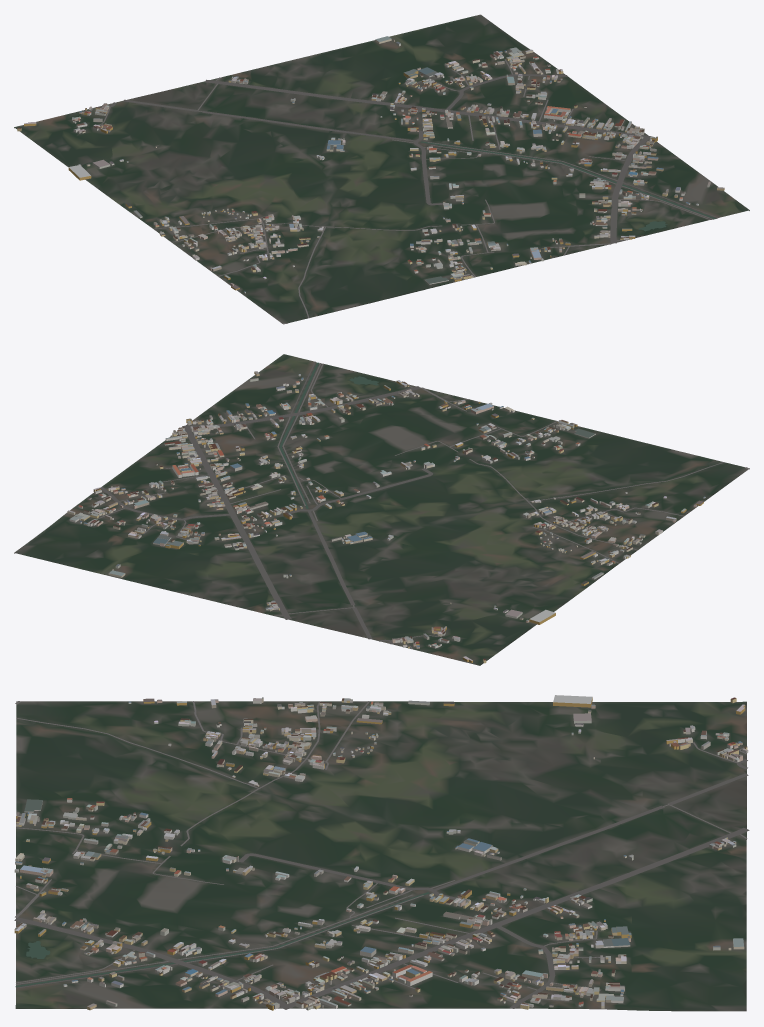
3 renders of one model, top to bottom at view 1: azimuth 30°, elevation 25°; view 2: azimuth 150°, elevation 25°; view 3: azimuth 270°, elevation 25°, orthographic. The views are drawn at different scales.
Parts seen in each view (by area): view 1: ground, buildings, roads, water; view 2: ground, buildings, roads, water; view 3: ground, buildings, roads, water.
Boxes of the visible parts, <box> form: ground: <box>14,14,749,324</box>; buildings: <box>17,36,724,293</box>; roads: <box>82,59,718,323</box>; water: <box>421,141,715,231</box>; ground: <box>14,354,749,665</box>; buildings: <box>67,371,705,663</box>; roads: <box>91,361,749,649</box>; water: <box>279,362,378,508</box>; ground: <box>15,701,746,1011</box>; buildings: <box>14,695,748,1010</box>; roads: <box>14,701,749,1009</box>; water: <box>15,892,429,987</box>.
Bounding box in the file's own units: 1422 × 18.91 × 1411.
